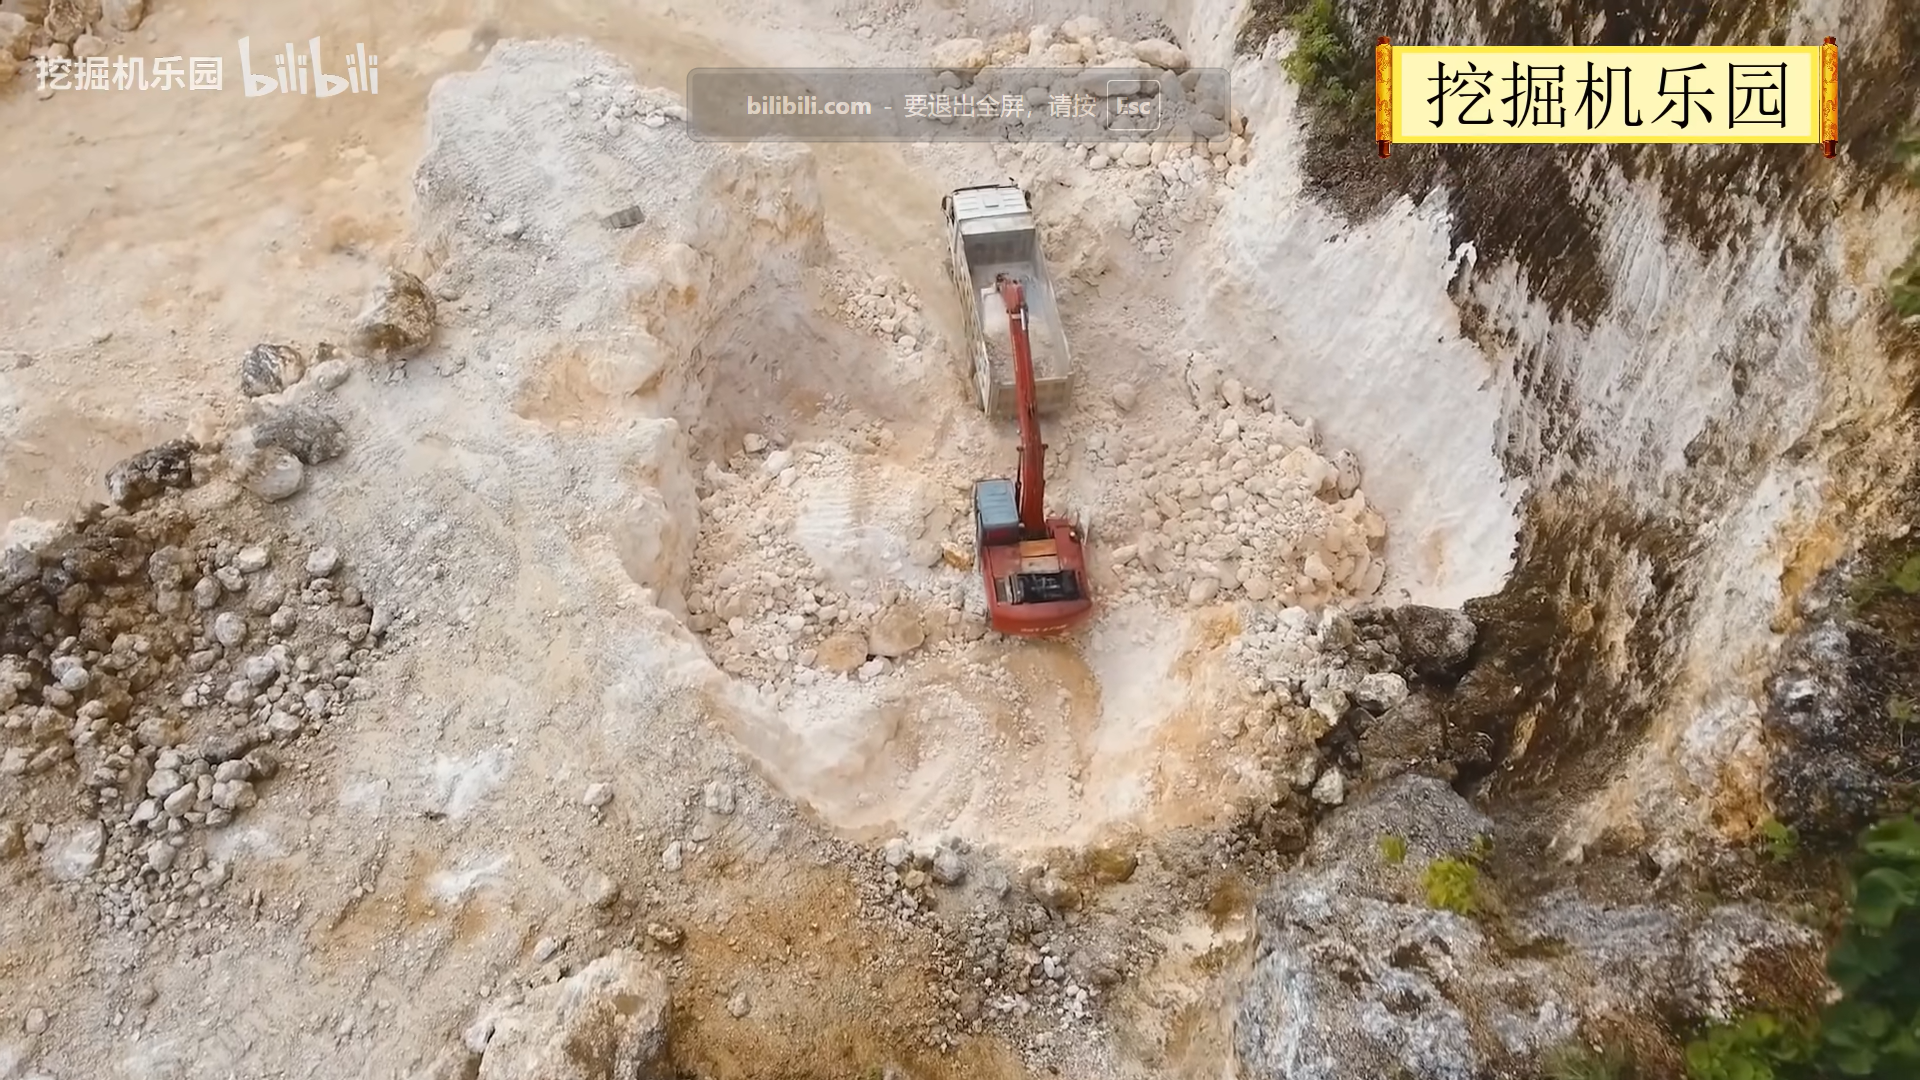excavator: (954, 267, 1115, 650)
